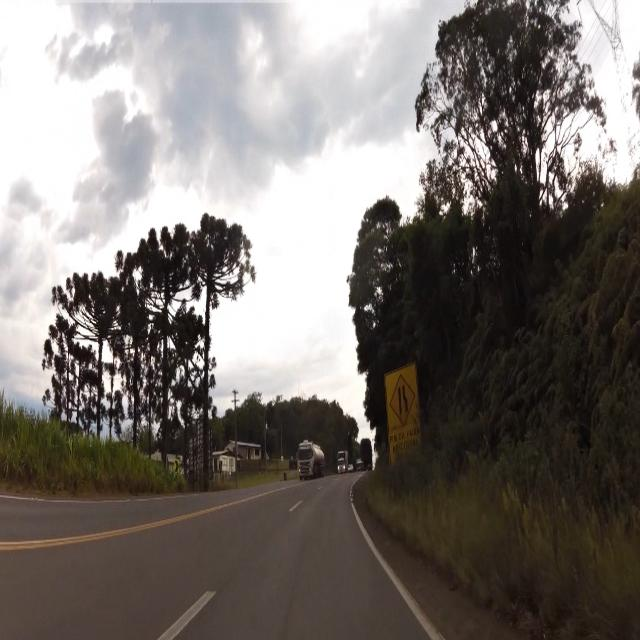A-21c: (389, 372, 419, 427)
